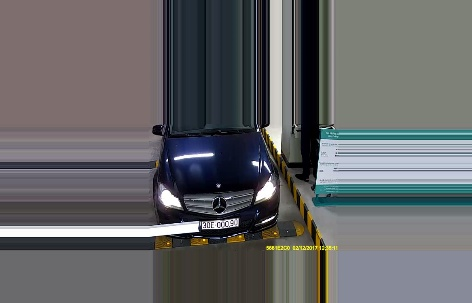plate: (197, 218, 239, 230)
